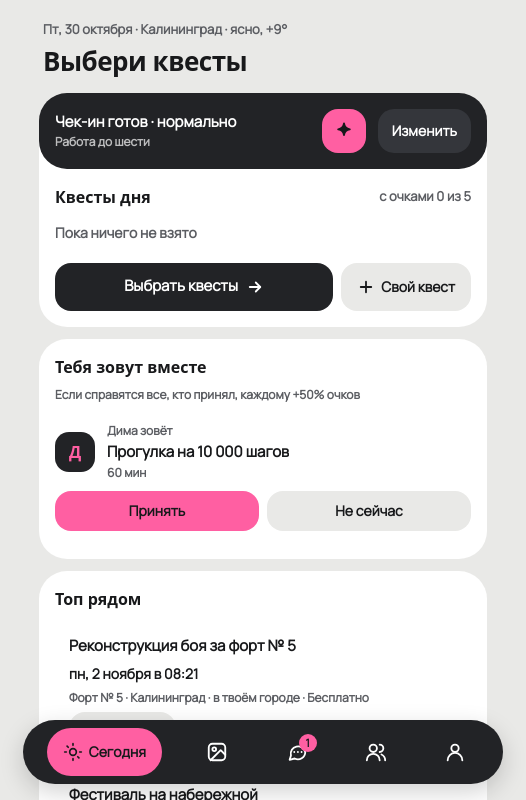
Test: Assistant chat (ADR 0013) › opens from the check-in and continues the day topic
Click the link named "Чат с помощником" at (344, 130), box x1=322 y1=108 x2=366 y2=152
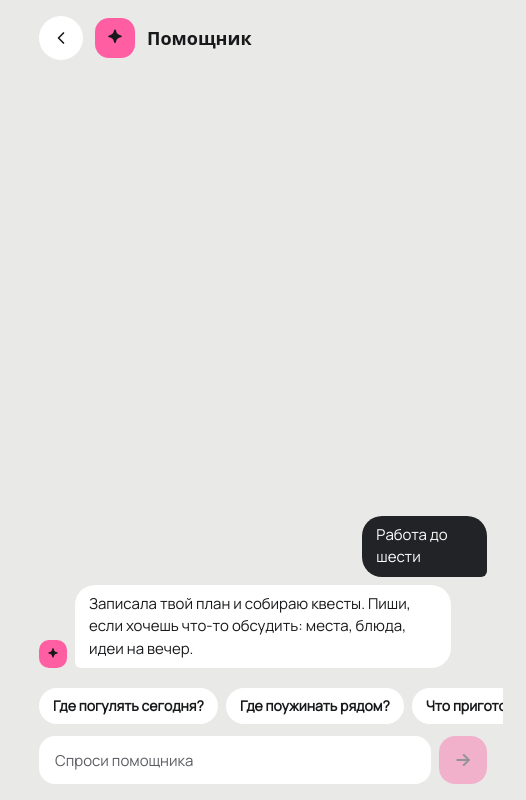
Check: the text "Работа до шести" is shown, box x1=362 y1=516 x2=487 y2=576
Check: the text "Записала твой план и собираю квесты. Пиши, если хочешь что-то обсудить: места, блюда, идеи на вечер." is shown, box x1=89 y1=592 x2=414 y2=658
Type "Как не устать к вечеру?" into the field labelled "Спроси помощника" at (235, 760), box x1=39 y1=736 x2=431 y2=784
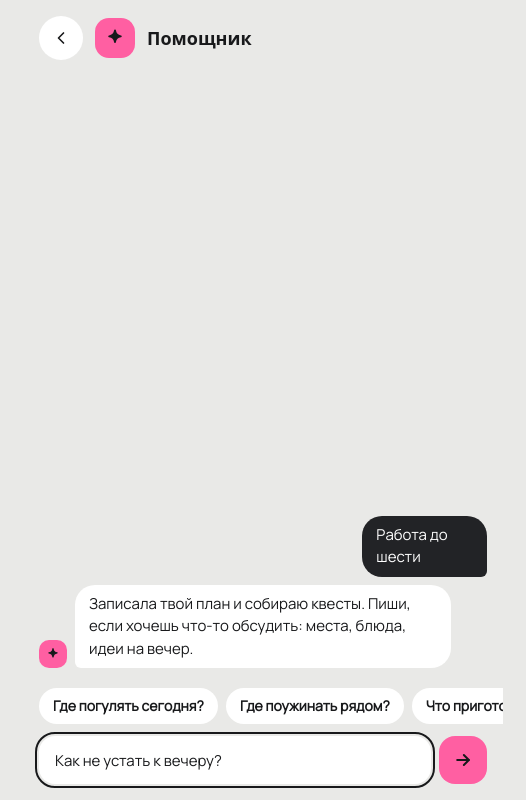
Click the button named "Отправить" at (463, 760), box x1=439 y1=736 x2=487 y2=784
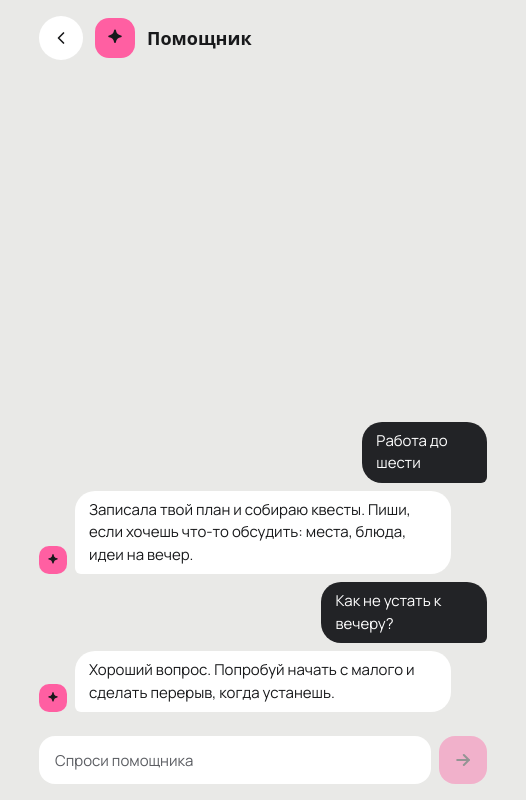
Check: the text "начать с малого" is shown, box x1=89 y1=659 x2=418 y2=702
